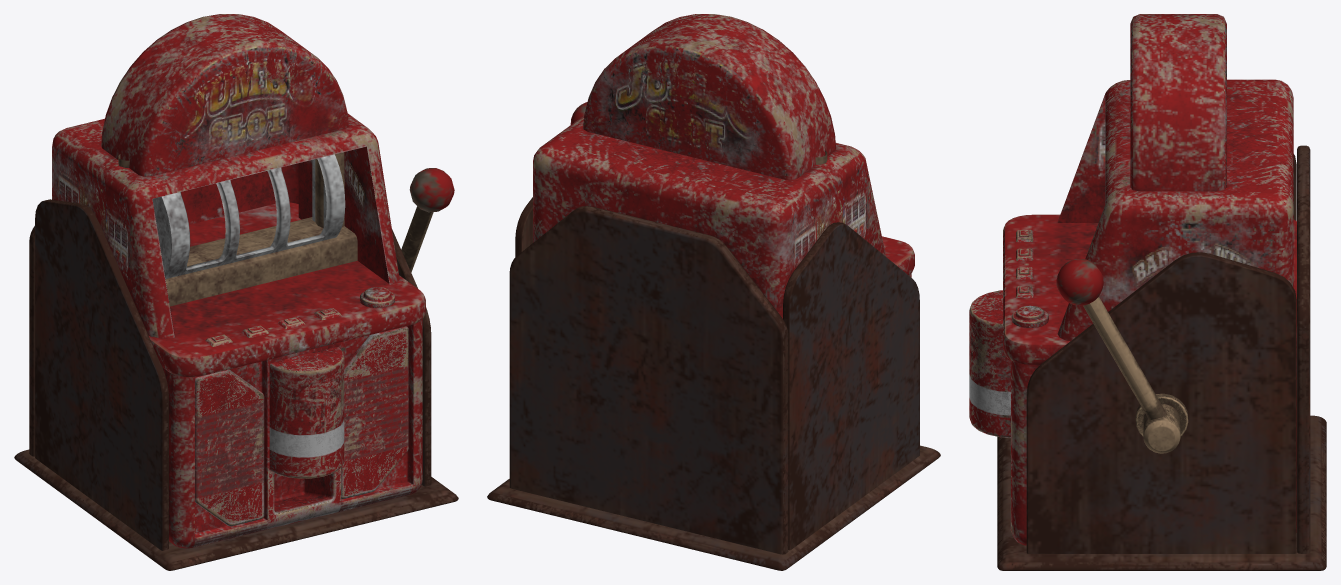
File: SlotMachine 2.fbx
The picture shows the model from 3 angles, left to right: view 1: azimuth 30°, elevation 25°; view 2: azimuth 150°, elevation 25°; view 3: azimuth 270°, elevation 25°; orthographic projection. The views are drawn at different scales.
Parts seen in each view (by area): view 1: Slot_Machine, Slot_Machine.001; view 2: Slot_Machine; view 3: Slot_Machine, Slot_Machine.001.
Part boxes in pixels (x1=…): Slot_Machine: x1=14, y1=14, x2=458, y2=570; Slot_Machine.001: x1=401, y1=168, x2=454, y2=272; Slot_Machine: x1=487, y1=14, x2=940, y2=570; Slot_Machine: x1=969, y1=14, x2=1326, y2=570; Slot_Machine.001: x1=1056, y1=258, x2=1188, y2=453.
Bounding box in the file's own units: 7412 × 9827 × 6738.
